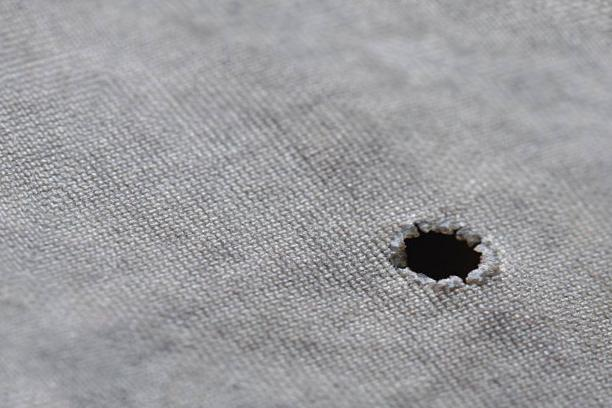hole: (386, 218, 501, 289)
